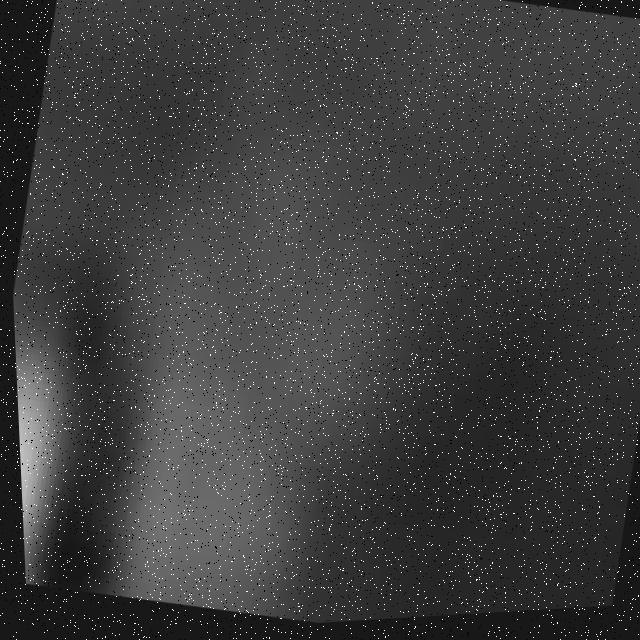person: (88, 89, 403, 636), (10, 256, 98, 588)
